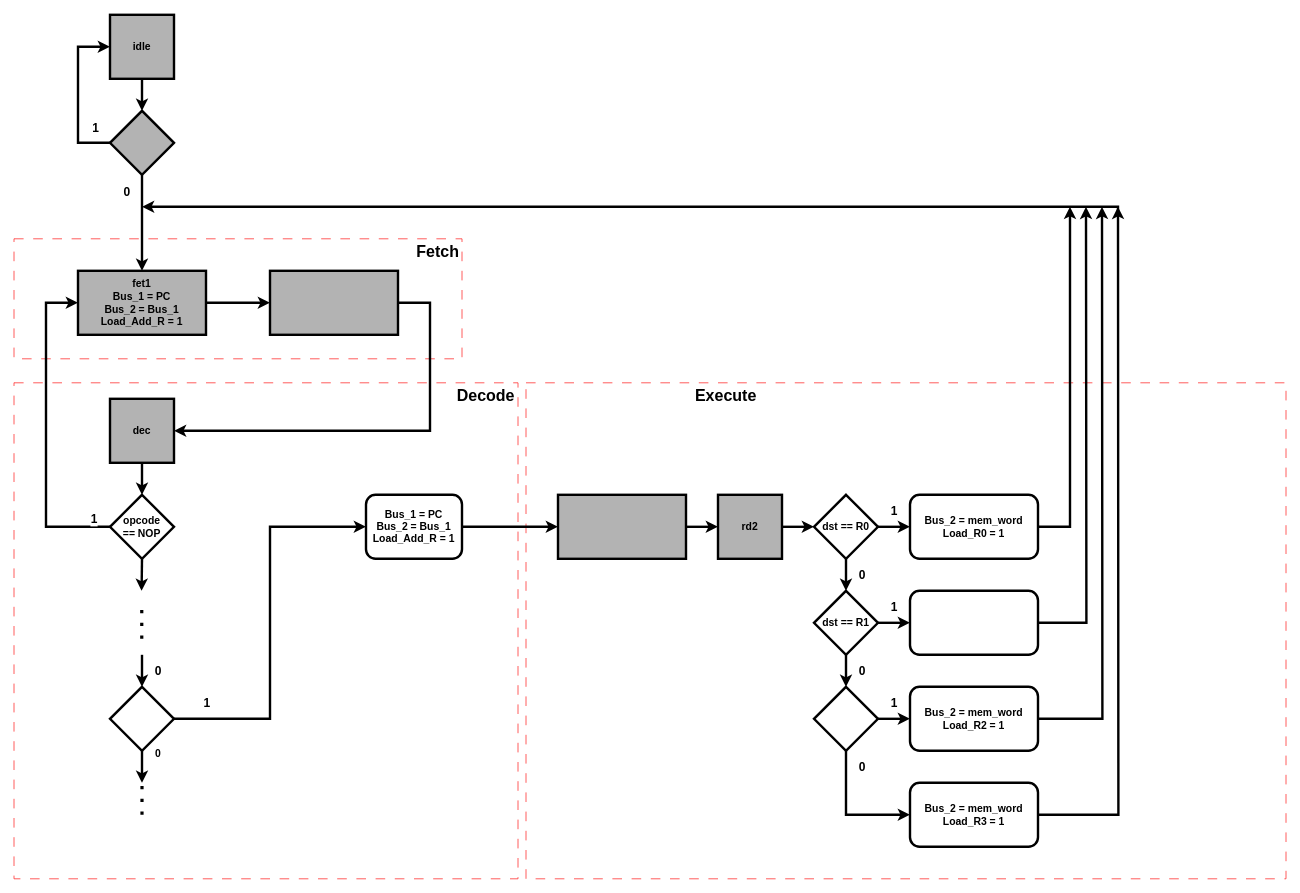
This 1300x893 diagram has some shape labels left out. The centre of each missing label's shape, as x and y in pixels:
Bus_2 = mem_word Load_R1 = 1: the point at 973,622
dst == R2: the point at 845,718
fet2 Bus_2 = mem_word Load_IR = 1 Inc_PC = 1: the point at 333,302
opcode == RD: the point at 141,718
rd1 Bus_2 = mem_word Load_Add_R Inc_PC: the point at 621,526
rst = 1: the point at 141,142
